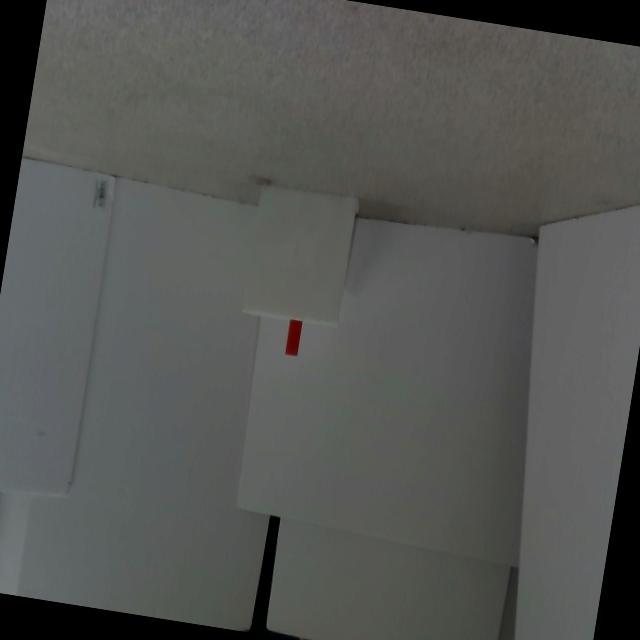red_cylinder: (286, 320, 302, 356)
